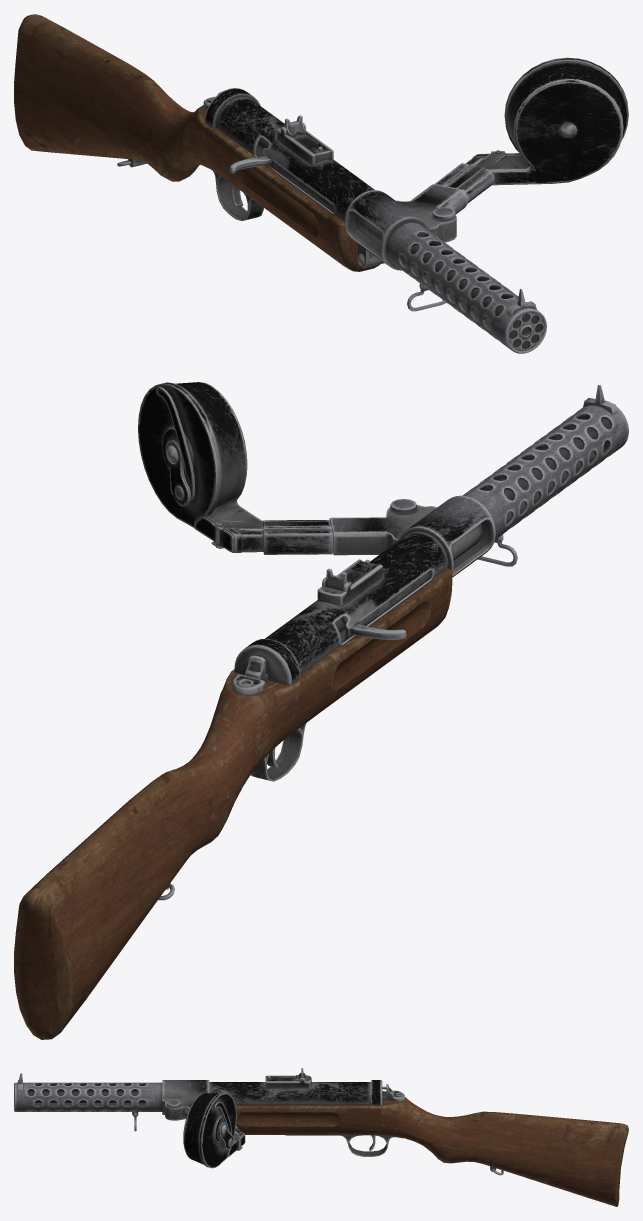
3 views of the same model, one above another, from view 1: azimuth 30°, elevation 25°; view 2: azimuth 150°, elevation 25°; view 3: azimuth 270°, elevation 25° (orthographic). The views are drawn at different scales.
Parts seen in each view (by area): view 1: machinePistole; view 2: machinePistole; view 3: machinePistole.
Part boxes in pixels (x1=…): machinePistole: x1=14, y1=14, x2=628, y2=353; machinePistole: x1=14, y1=382, x2=628, y2=1039; machinePistole: x1=14, y1=1068, x2=628, y2=1206.
Size of the model in its own units: 35.19 by 29.68 by 96.19.
1 material, 1 textured.
